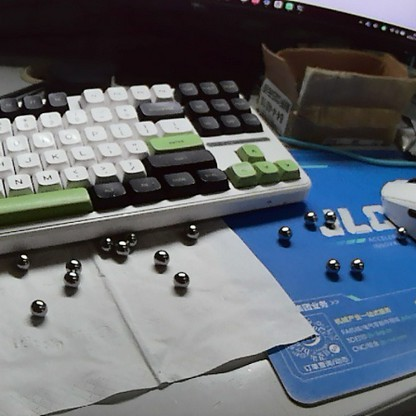ironball: (22, 291, 50, 318), (166, 266, 191, 293), (9, 249, 38, 269), (343, 250, 366, 275), (60, 264, 83, 289), (62, 250, 83, 272), (324, 254, 340, 277), (151, 244, 167, 267), (120, 228, 139, 247), (302, 206, 320, 226), (273, 222, 293, 240), (183, 220, 200, 240), (323, 209, 340, 227), (99, 233, 117, 250), (112, 236, 128, 255), (394, 225, 406, 240)
